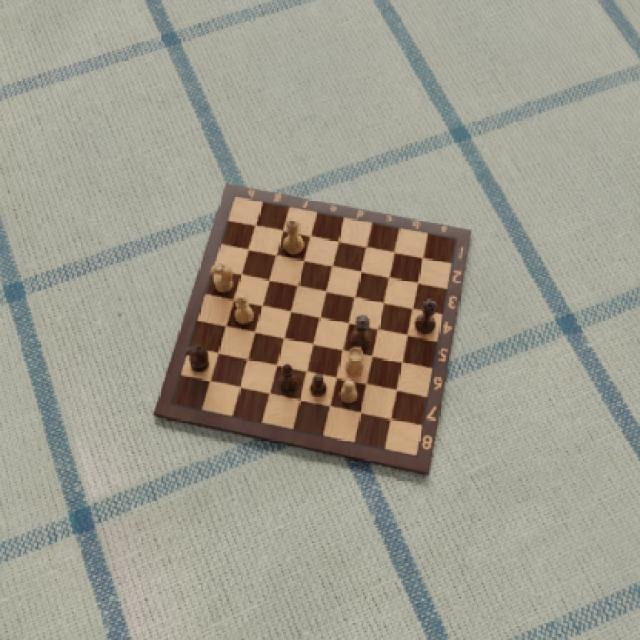black-bishop: (278, 363, 298, 395)
black-king: (412, 297, 437, 335)
black-knight: (182, 342, 210, 375)
black-pawn: (308, 373, 327, 397)
black-queen: (350, 314, 374, 352)
white-bishop: (230, 294, 257, 326)
white-king: (281, 217, 307, 257)
white-knight: (209, 260, 235, 296)
white-pawn: (337, 378, 359, 406)
white-rook: (343, 345, 365, 379)
